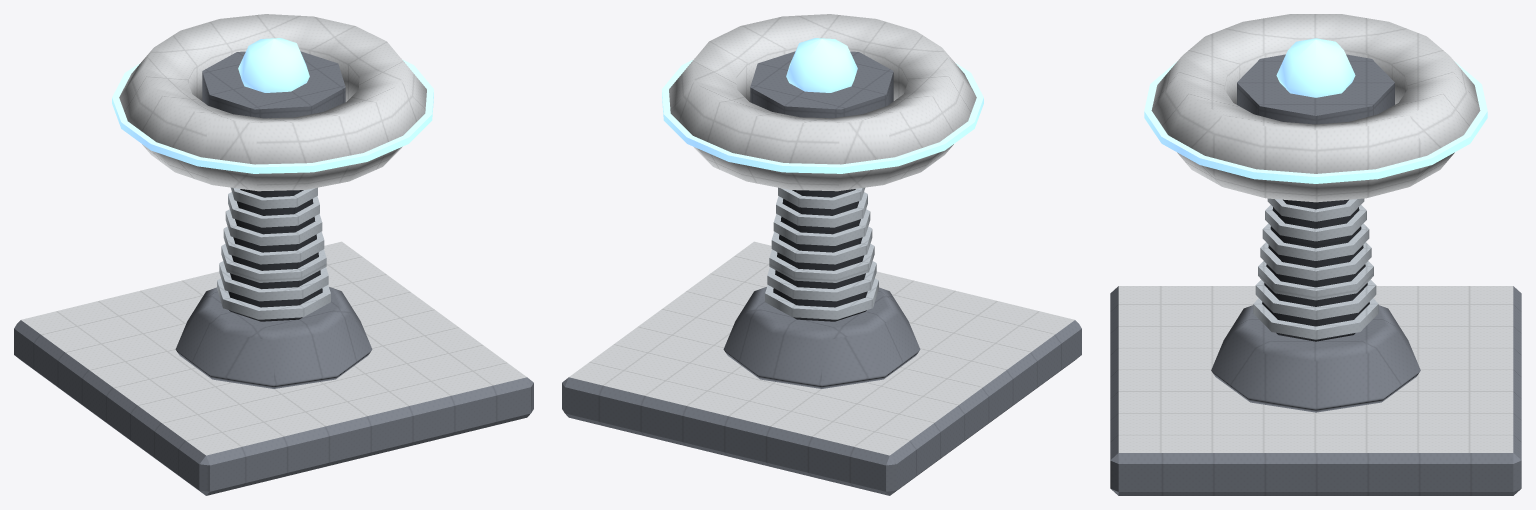
Rendered from R4X_AreaEMP_LOD1.glb.
The picture shows the model from 3 angles, left to right: view 1: azimuth 30°, elevation 25°; view 2: azimuth 150°, elevation 25°; view 3: azimuth 270°, elevation 25°; orthographic projection. The views are drawn at different scales.
Parts seen in each view (by area): view 1: R4X_AreaEMP_LOD1; view 2: R4X_AreaEMP_LOD1; view 3: R4X_AreaEMP_LOD1.
Boxes of the visible parts, x1,y1,x2,y2 form: R4X_AreaEMP_LOD1: (14,14,533,495); R4X_AreaEMP_LOD1: (562,14,1081,495); R4X_AreaEMP_LOD1: (1110,14,1521,495).
Bounding box in the file's own units: 0.52 × 0.52 × 0.52.
5 materials, 4 textured.
